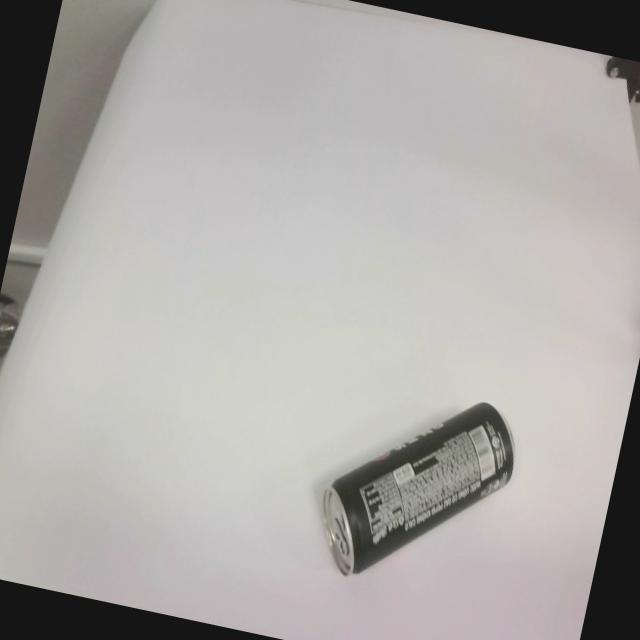debris: (305, 371, 525, 605)
